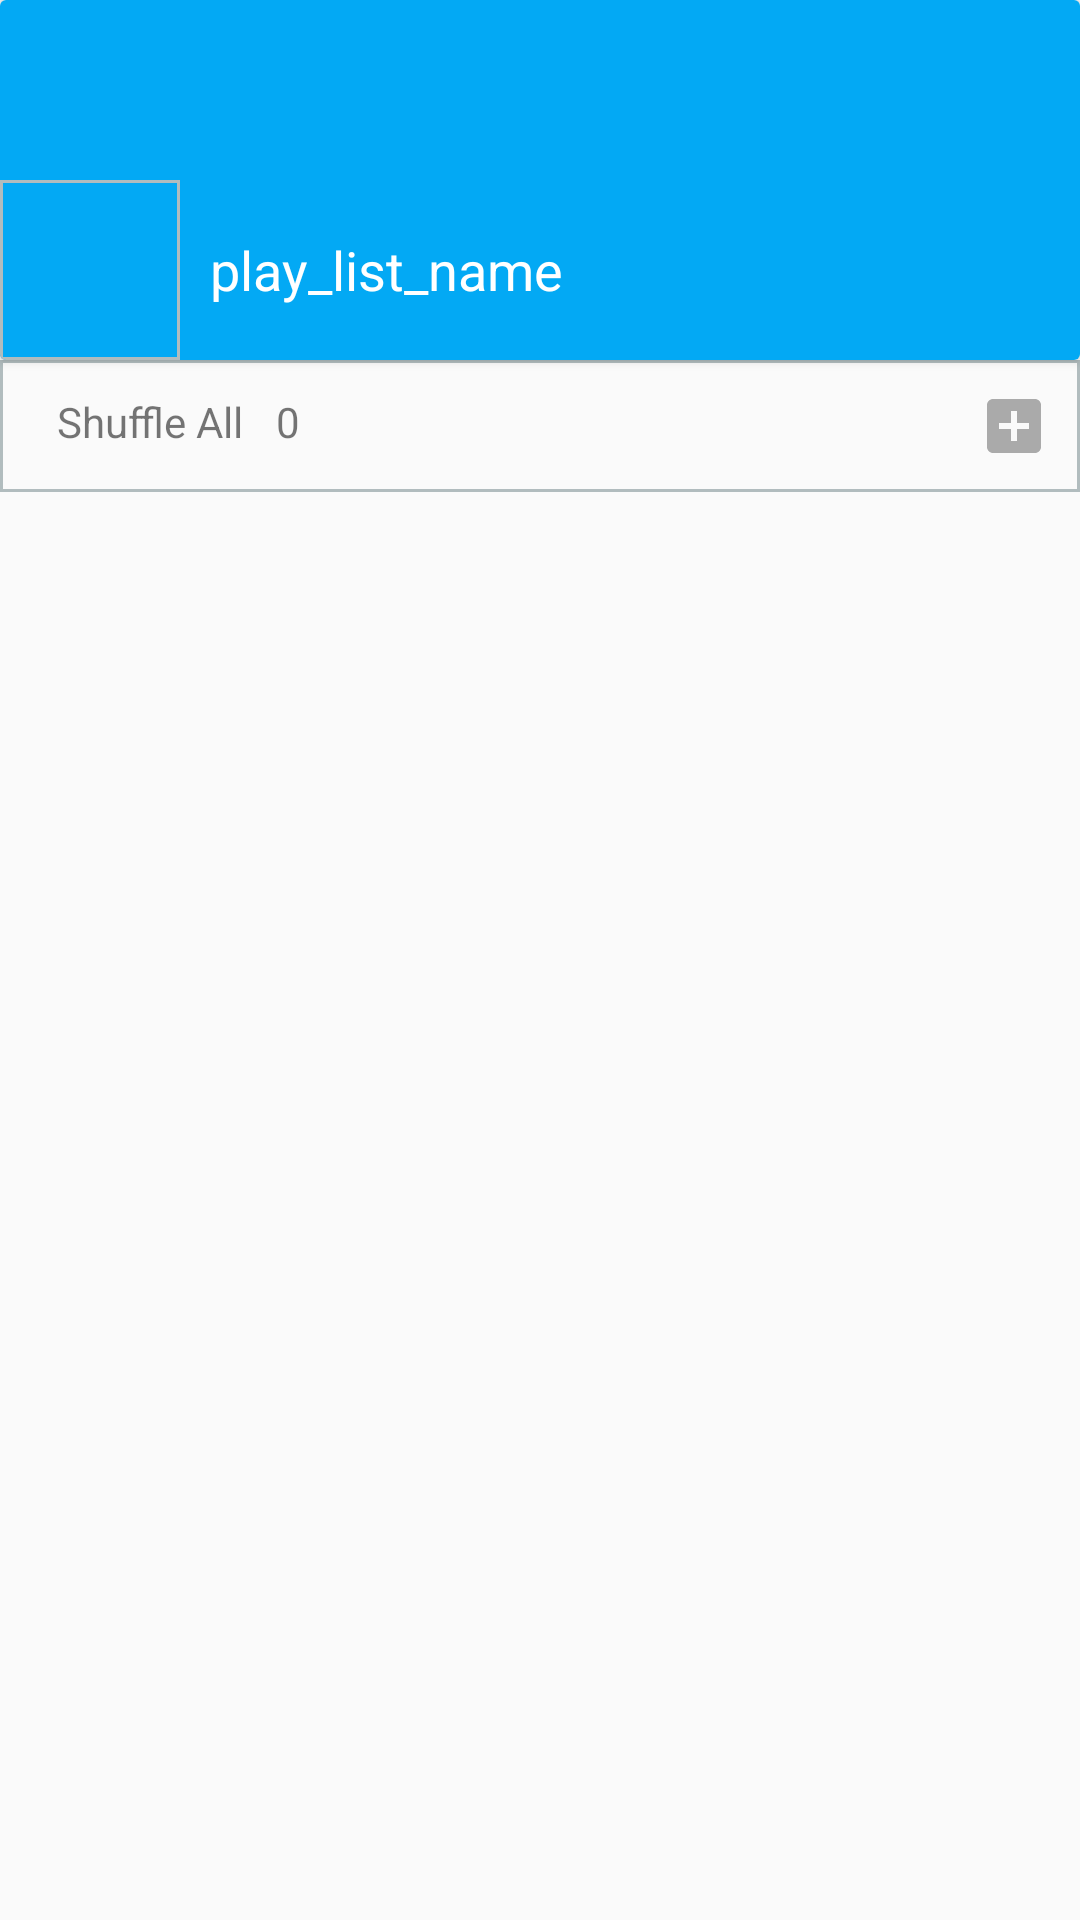

Icons on this 1080x1920 Android screen, each with its box as (x1, y1, x2, y2):
addbtn: (987, 399, 1041, 453)
